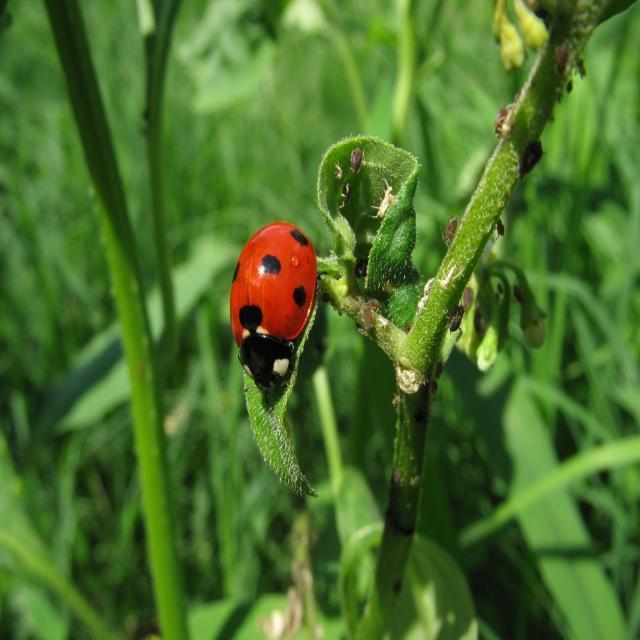Aphids: (261, 56, 582, 377)
